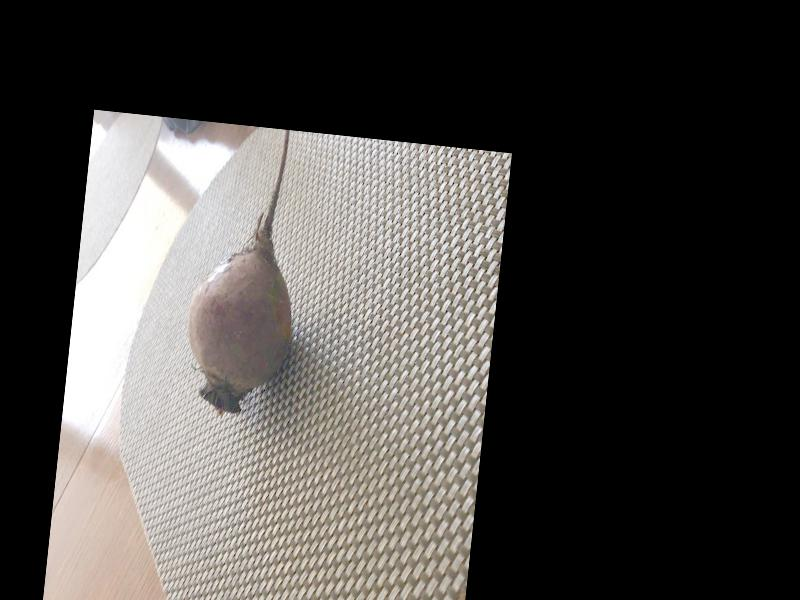Beet: (179, 124, 310, 418)
